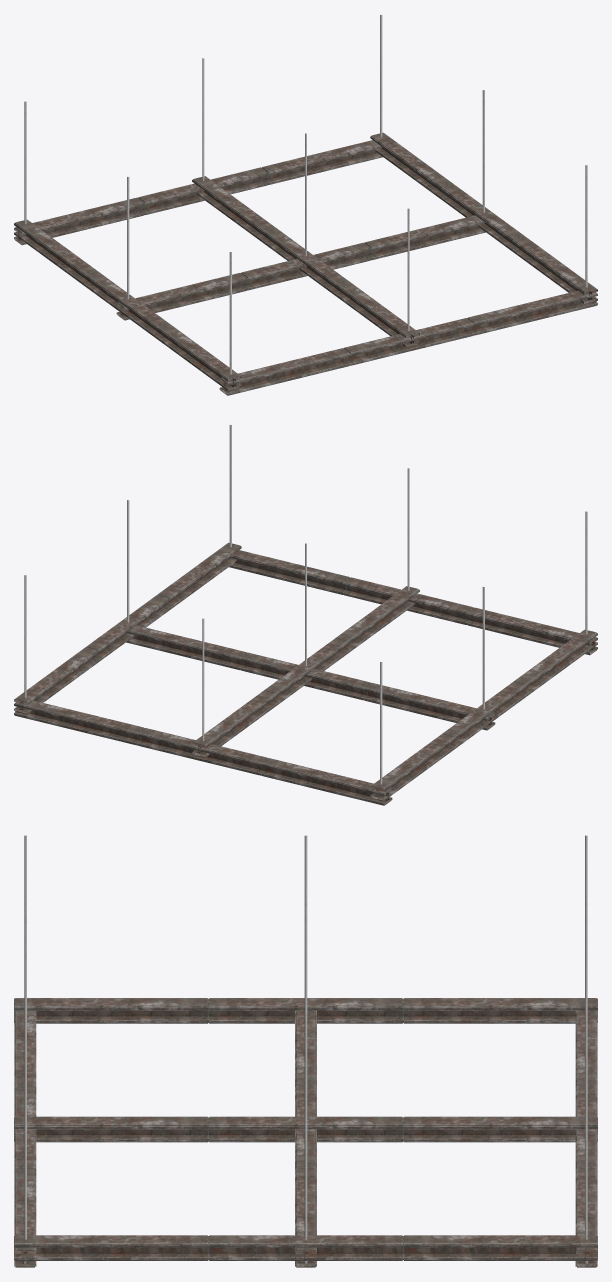
Rendered from SM_Ceiling_Scaffold_Whole_Empty.glb.
The picture shows the model from 3 angles, top to bottom: view 1: azimuth 30°, elevation 25°; view 2: azimuth 150°, elevation 25°; view 3: azimuth 270°, elevation 25°; orthographic projection. The views are drawn at different scales.
Visible parts, largest first — view 1: SM_Ceiling_Scaffold_Whole_Empty; view 2: SM_Ceiling_Scaffold_Whole_Empty; view 3: SM_Ceiling_Scaffold_Whole_Empty.
Part boxes in pixels (x1,y1,x2,y2): SM_Ceiling_Scaffold_Whole_Empty: (14,15,597,395); SM_Ceiling_Scaffold_Whole_Empty: (14,425,597,805); SM_Ceiling_Scaffold_Whole_Empty: (14,835,597,1267).
Bounding box in the file's own units: 2.6 × 0.9392 × 2.6.
2 materials, 2 textured.
